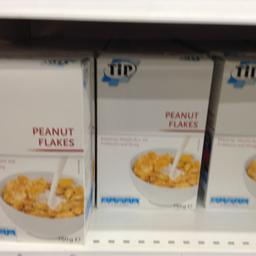cereal: (96, 48, 213, 209), (0, 54, 93, 242), (206, 55, 255, 208)
